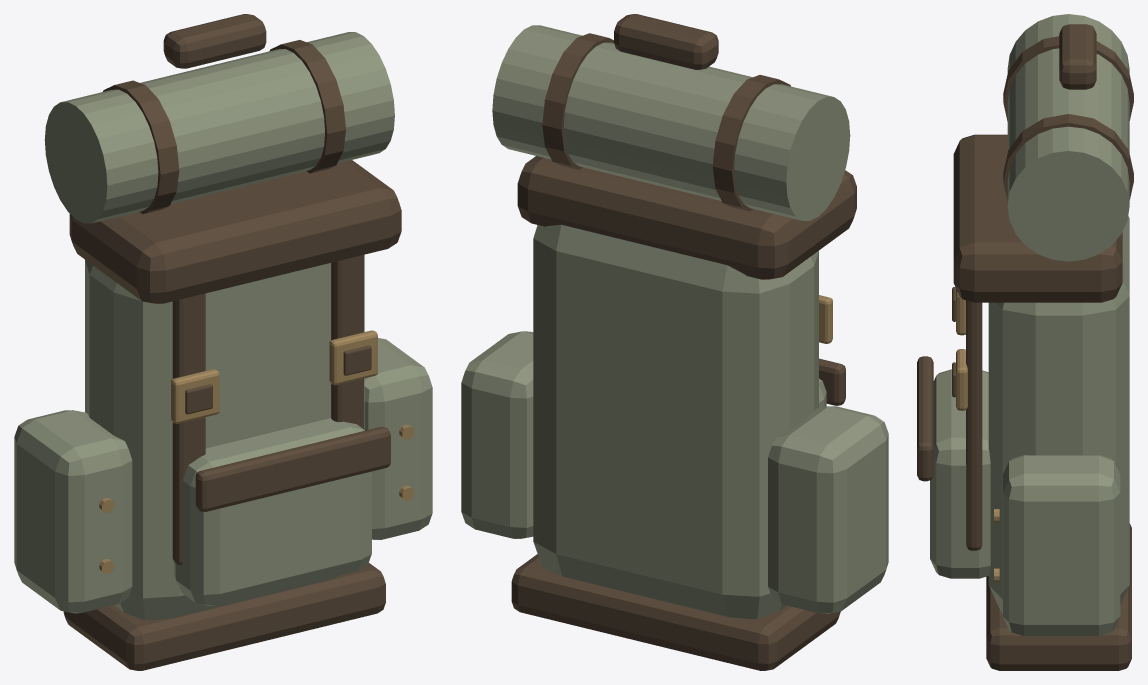
File: psy_expedition_pack.glb
3 views of the same model, side by side, from view 1: azimuth 30°, elevation 25°; view 2: azimuth 150°, elevation 25°; view 3: azimuth 270°, elevation 25° (orthographic). The views are drawn at different scales.
Parts seen in each view (by area): view 1: psy_expedition_pack_Olive_Khaki_Canvas, psy_expedition_pack_Dark_Brown_Leather, psy_expedition_pack_Worn_Bronze_Gear; view 2: psy_expedition_pack_Olive_Khaki_Canvas, psy_expedition_pack_Dark_Brown_Leather, psy_expedition_pack_Worn_Bronze_Gear; view 3: psy_expedition_pack_Olive_Khaki_Canvas, psy_expedition_pack_Dark_Brown_Leather, psy_expedition_pack_Worn_Bronze_Gear.
Boxes of the visible parts, x1,y1,x2,y2 form: psy_expedition_pack_Olive_Khaki_Canvas: [14, 32, 432, 620]; psy_expedition_pack_Dark_Brown_Leather: [63, 14, 401, 670]; psy_expedition_pack_Worn_Bronze_Gear: [99, 330, 414, 573]; psy_expedition_pack_Olive_Khaki_Canvas: [461, 25, 888, 619]; psy_expedition_pack_Dark_Brown_Leather: [511, 14, 856, 670]; psy_expedition_pack_Worn_Bronze_Gear: [819, 295, 832, 343]; psy_expedition_pack_Olive_Khaki_Canvas: [930, 14, 1129, 635]; psy_expedition_pack_Dark_Brown_Leather: [917, 24, 1133, 670]; psy_expedition_pack_Worn_Bronze_Gear: [956, 289, 999, 582].
Size of the model in its own units: 0.9 by 1.35 by 0.4615.
